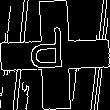P_S: (36, 29, 74, 81)
